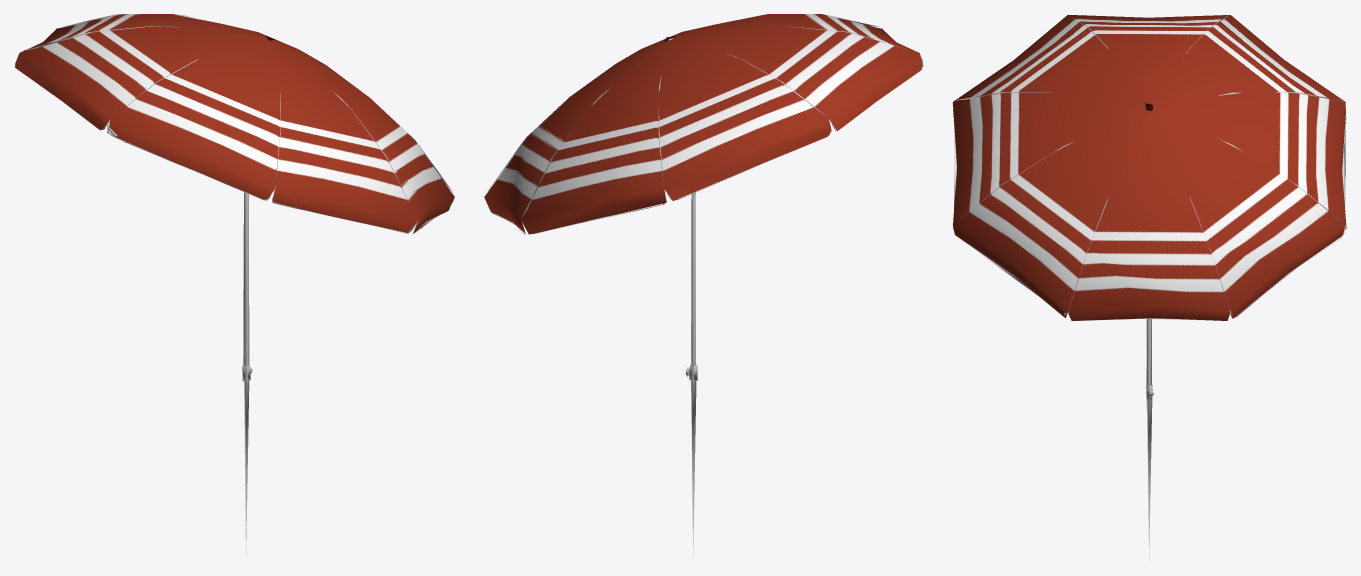
File: sombrillaA.obj
The picture shows the model from 3 angles, left to right: view 1: azimuth 30°, elevation 25°; view 2: azimuth 150°, elevation 25°; view 3: azimuth 270°, elevation 25°; orthographic projection. The views are drawn at different scales.
Parts seen in each view (by area): view 1: Sun_Umbrella_opened/angle_Mesh; view 2: Sun_Umbrella_opened/angle_Mesh; view 3: Sun_Umbrella_opened/angle_Mesh.
Part boxes in pixels (x1,y1,x2,y2): Sun_Umbrella_opened/angle_Mesh: [14, 14, 454, 557]; Sun_Umbrella_opened/angle_Mesh: [484, 14, 923, 558]; Sun_Umbrella_opened/angle_Mesh: [952, 15, 1346, 561].
Size of the model in its own units: 1.15 by 1.67 by 1.24.
Materials: 6 (1 with a texture image).
